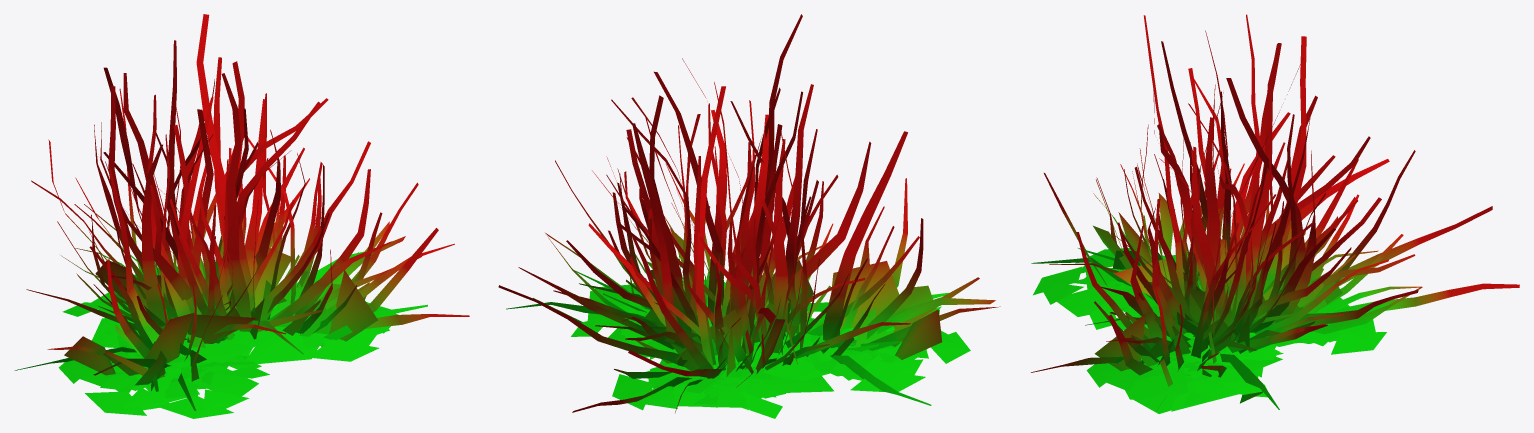
The model's file is Wild Grass_LOD3_Var6_vczndjqja.fbx.
3 views of the same model, side by side, from view 1: azimuth 30°, elevation 25°; view 2: azimuth 150°, elevation 25°; view 3: azimuth 270°, elevation 25° (orthographic). The views are drawn at different scales.
Parts seen in each view (by area): view 1: _5xb1_Var6_LOD3; view 2: _5xb1_Var6_LOD3; view 3: _5xb1_Var6_LOD3.
Boxes of the visible parts, <box> form: _5xb1_Var6_LOD3: <box>14,14,469,418</box>; _5xb1_Var6_LOD3: <box>498,14,1000,418</box>; _5xb1_Var6_LOD3: <box>1031,14,1519,413</box>.
Size of the model in its own units: 119 by 87.19 by 123.
